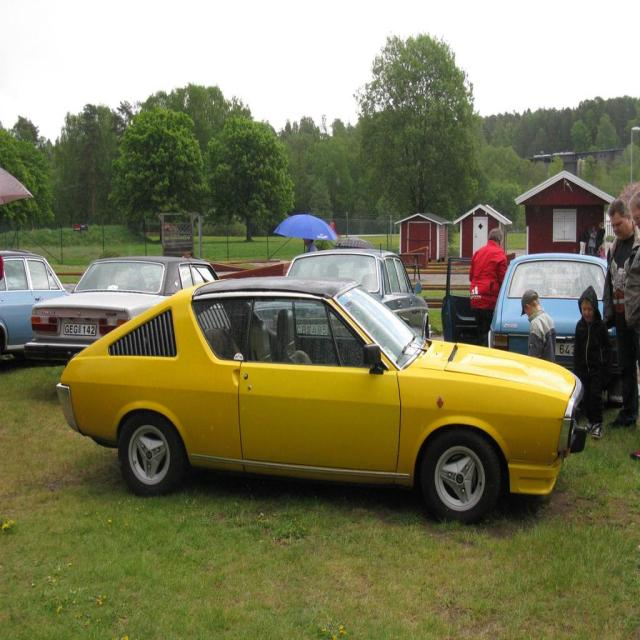car: (52, 274, 585, 522)
